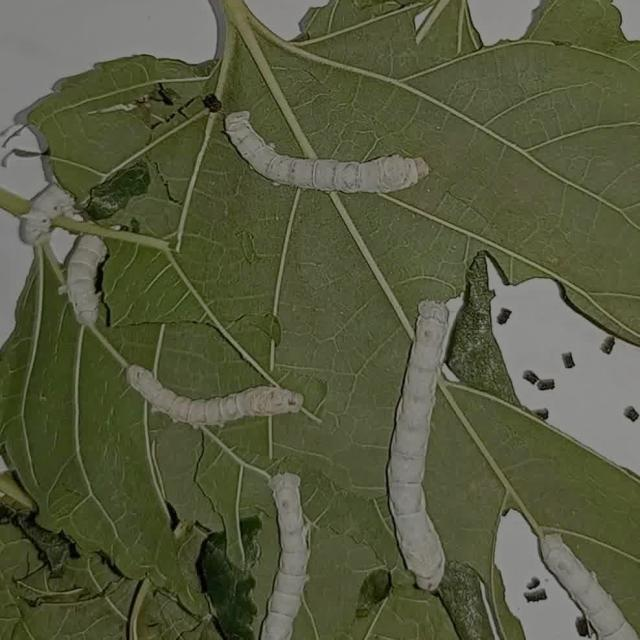Healthy: (211, 73, 453, 226), (382, 293, 488, 595), (97, 358, 323, 431)
